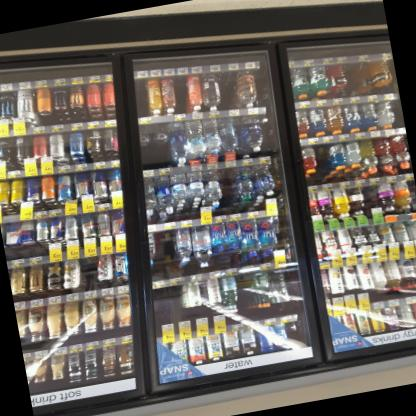empty_space: (153, 284, 184, 320), (156, 227, 174, 264), (173, 73, 186, 108), (217, 70, 232, 100), (135, 77, 147, 113)
